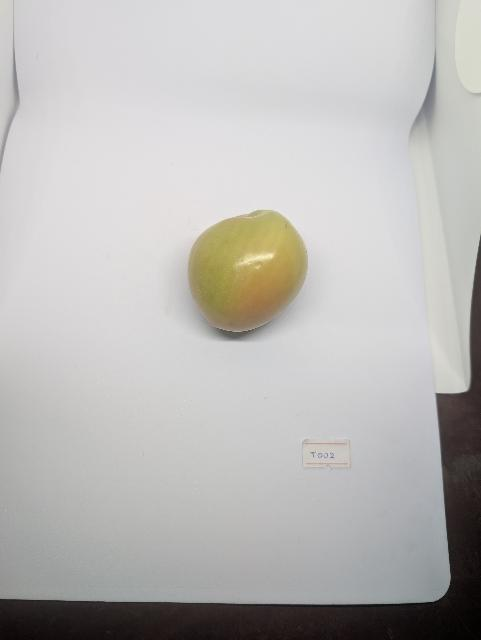breaker: (184, 200, 312, 335)
